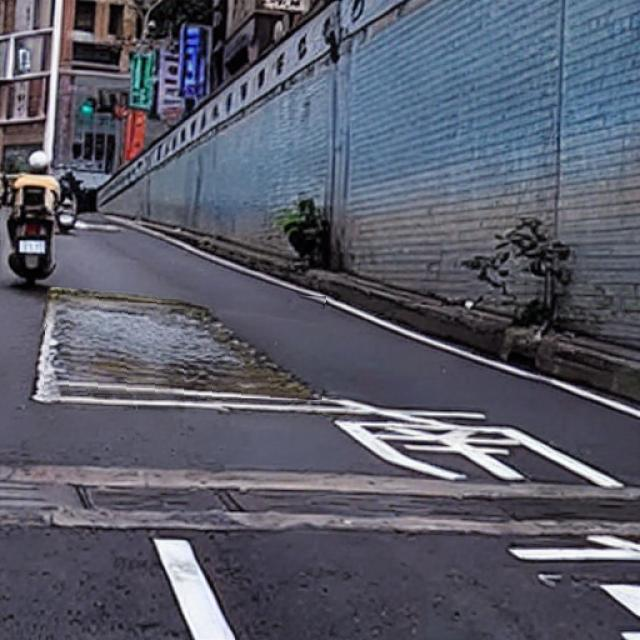puddle: (45, 291, 326, 399)
